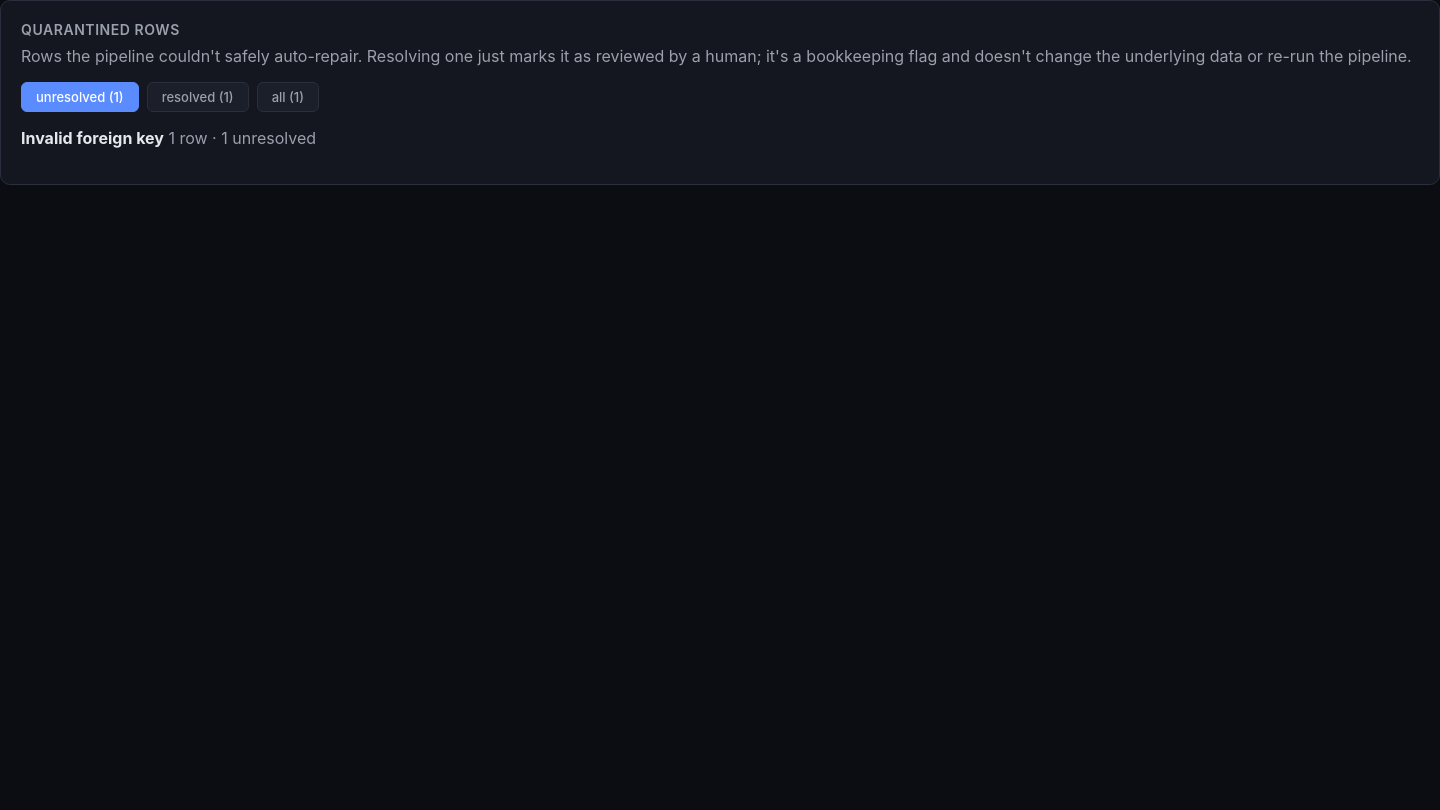
Scenario: Quarantine resolve feedback › shows a success toast when resolving succeeds
The image size is (1440, 810).
Click the button "Invalid foreign key 1 row · 1 unresolved".
click(168, 138)  # box [21, 128, 316, 148]
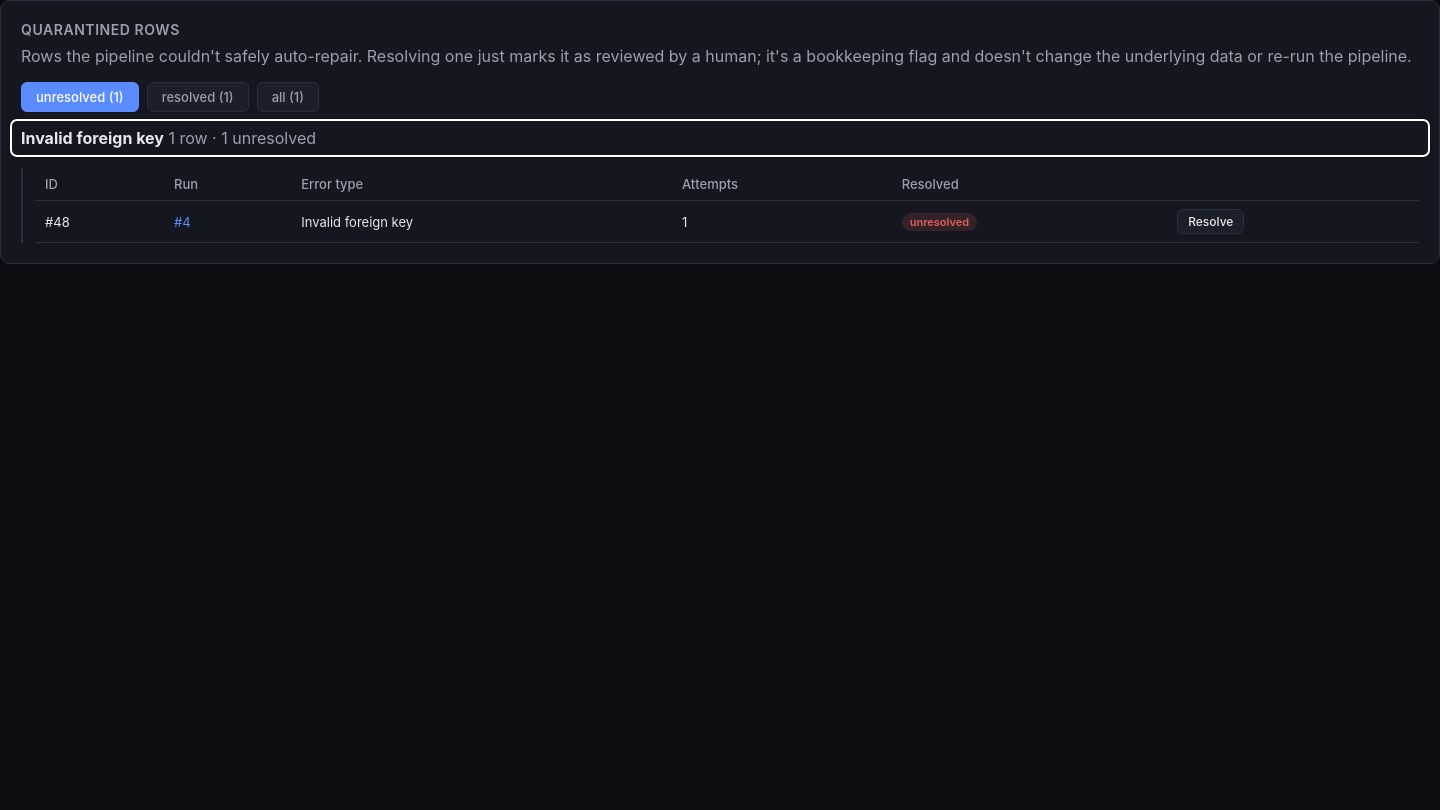
Click the button "Resolve".
click(1211, 222)  # box [1177, 209, 1244, 234]
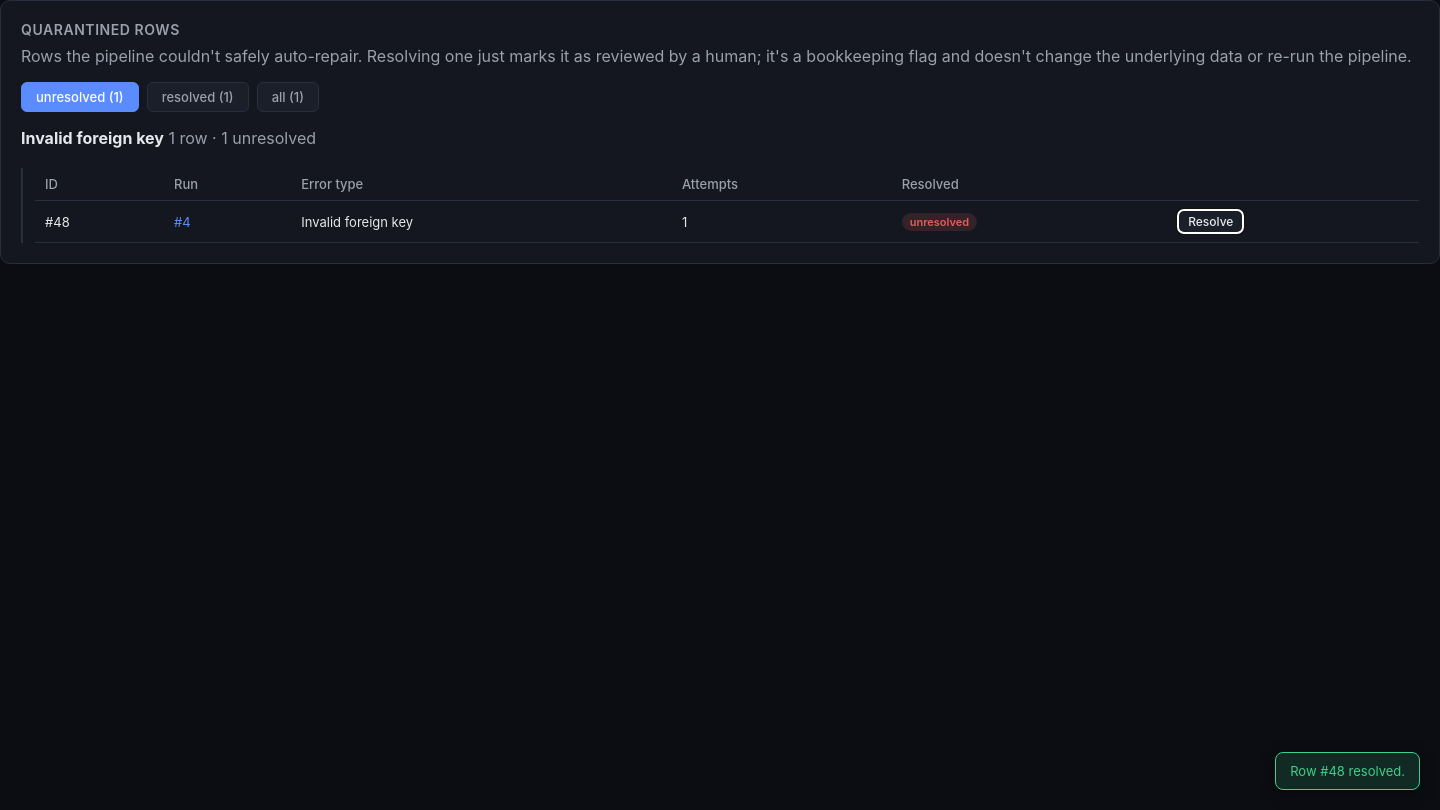
Result: the text "Row #48 resolved." is shown at [1275, 752, 1420, 790]
